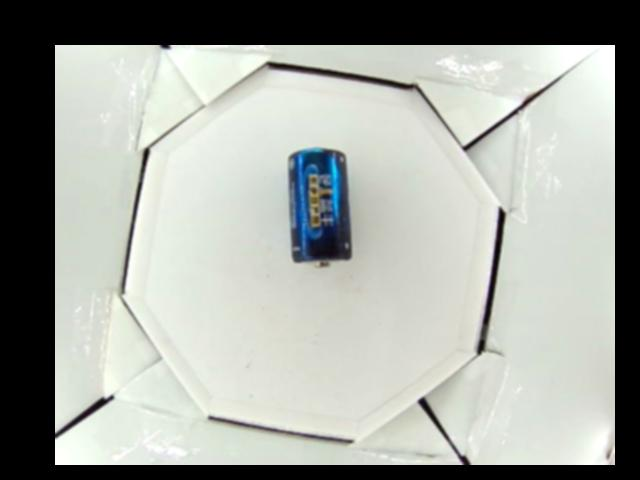Battery: (287, 148, 352, 268)
